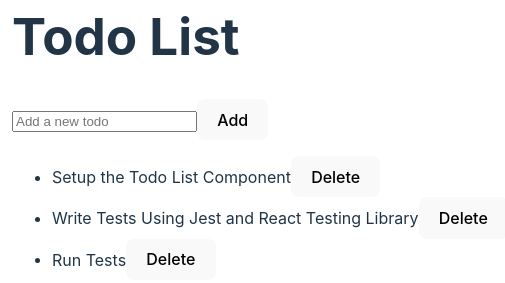
it: allows users to delete a Todo
Click the button "Delete" next to "Setup the Todo List Component": point(336, 177) [291,156,380,198]
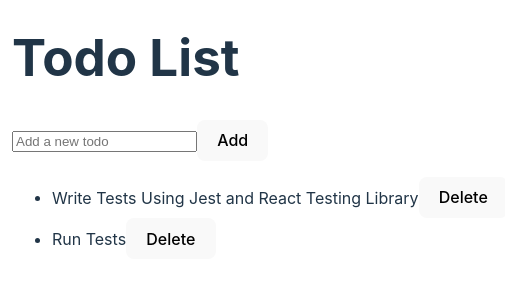
Result: the text "Setup the Todo List Component" is gone
